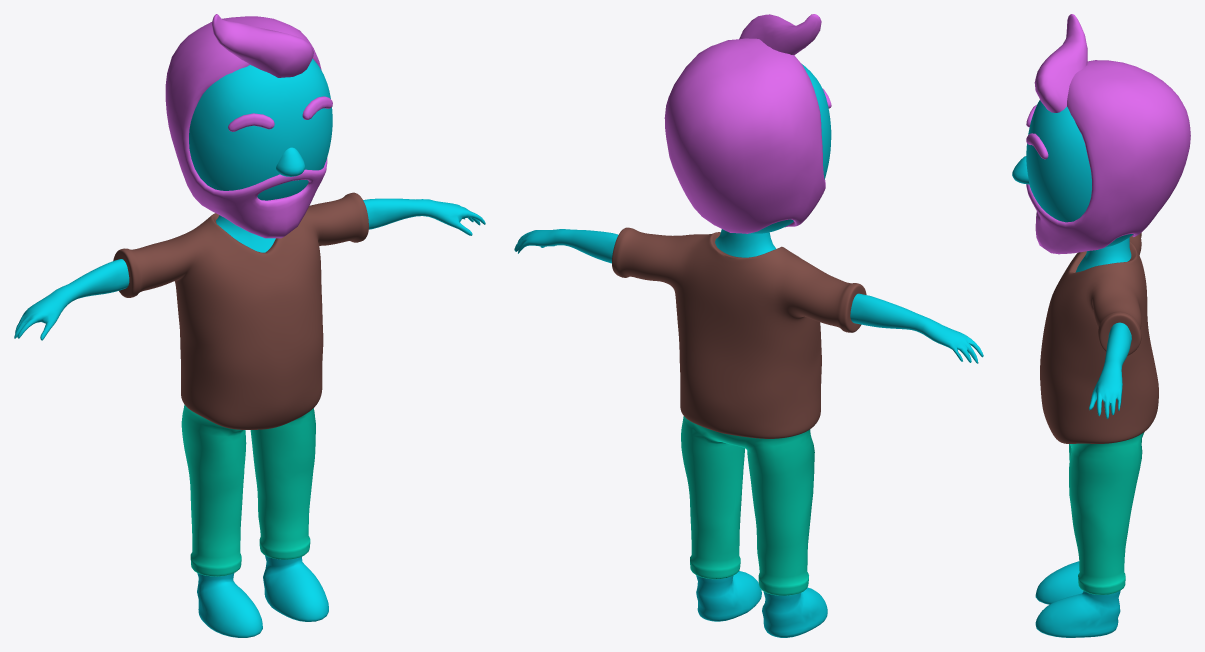
The model's file is uploads_files_2551386_talha.fbx.
3 renders of one model, left to right at view 1: azimuth 30°, elevation 25°; view 2: azimuth 150°, elevation 25°; view 3: azimuth 270°, elevation 25°, orthographic. The views are drawn at different scales.
Visible parts, largest first — view 1: tshırt, vucut, Pantolon1low, hair; view 2: tshırt, hair, Pantolon1low, vucut; view 3: hair, tshırt, vucut, Pantolon1low.
Part boxes in pixels (bbox=[...]): tshırt: bbox=[113, 192, 368, 429]; vucut: bbox=[14, 58, 485, 637]; Pantolon1low: bbox=[181, 404, 315, 576]; hair: bbox=[165, 14, 332, 238]; tshırt: bbox=[612, 227, 866, 438]; hair: bbox=[664, 14, 831, 233]; Pantolon1low: bbox=[681, 416, 814, 595]; vucut: bbox=[514, 63, 983, 637]; hair: bbox=[1026, 14, 1190, 254]; tshırt: bbox=[1040, 233, 1158, 443]; vucut: bbox=[1012, 100, 1133, 637]; Pantolon1low: bbox=[1069, 432, 1144, 594].
Bounding box in the file's own units: 7.11 × 8.93 × 2.5.
